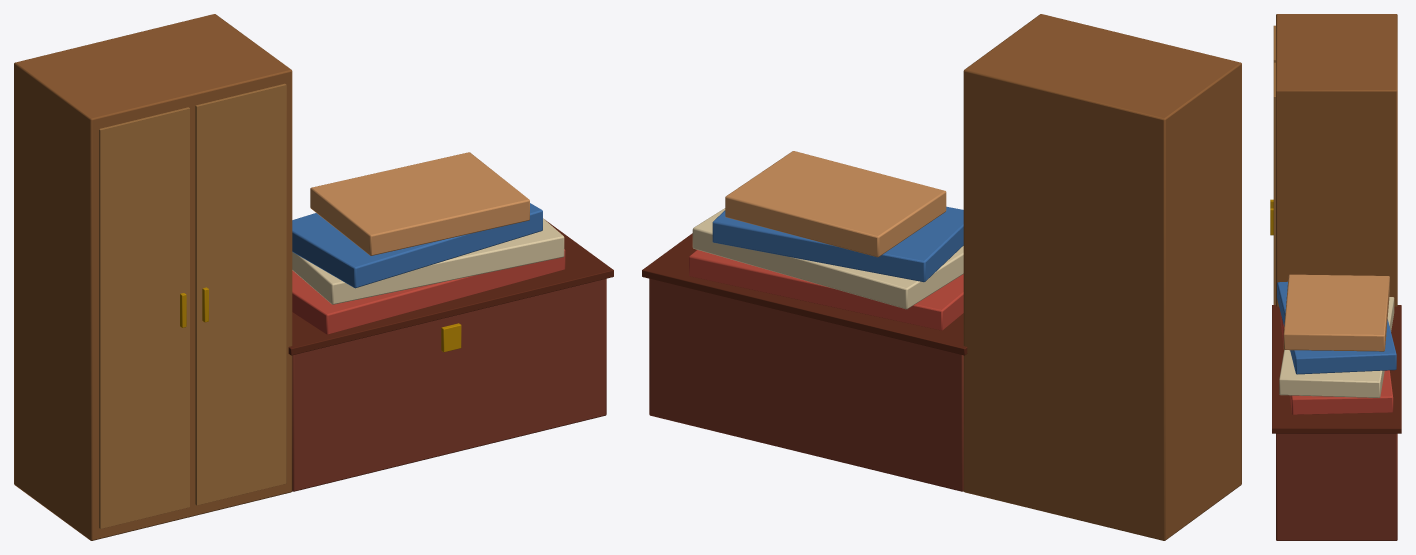
The model's file is TuDung_RuongChanMan.glb.
3 renders of one model, left to right at view 1: azimuth 30°, elevation 25°; view 2: azimuth 150°, elevation 25°; view 3: azimuth 270°, elevation 25°, orthographic. The views are drawn at different scales.
Visible parts, largest first — view 1: TuDung_RuongChanMan; view 2: TuDung_RuongChanMan; view 3: TuDung_RuongChanMan.
Boxes of the visible parts, left/top/right/bottom form: TuDung_RuongChanMan: left=14, top=14, right=613, bottom=540; TuDung_RuongChanMan: left=642, top=14, right=1241, bottom=540; TuDung_RuongChanMan: left=1270, top=14, right=1401, bottom=540.
Size of the model in its own units: 2.32 by 1.8 by 0.648.
